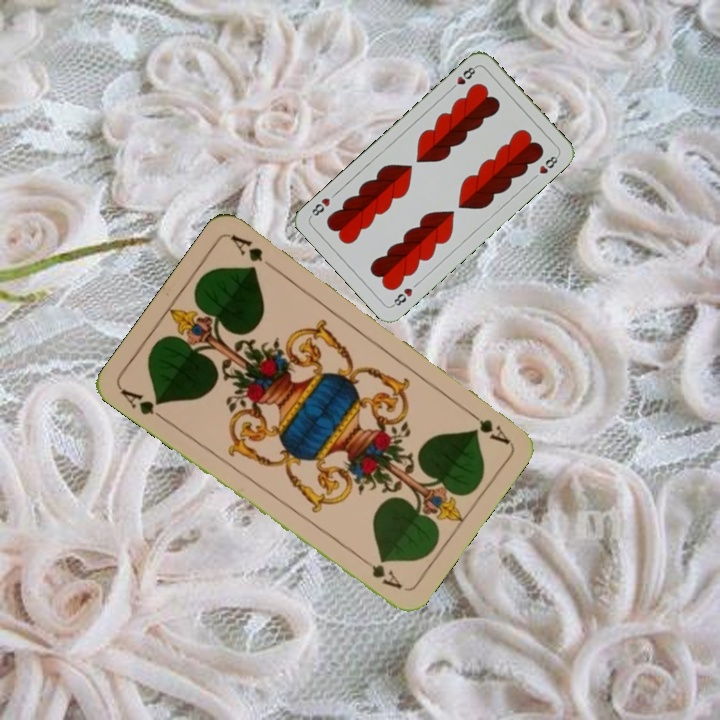GA: (116, 384, 169, 425), (461, 405, 512, 447)
H8: (446, 62, 479, 93), (388, 284, 415, 309)
